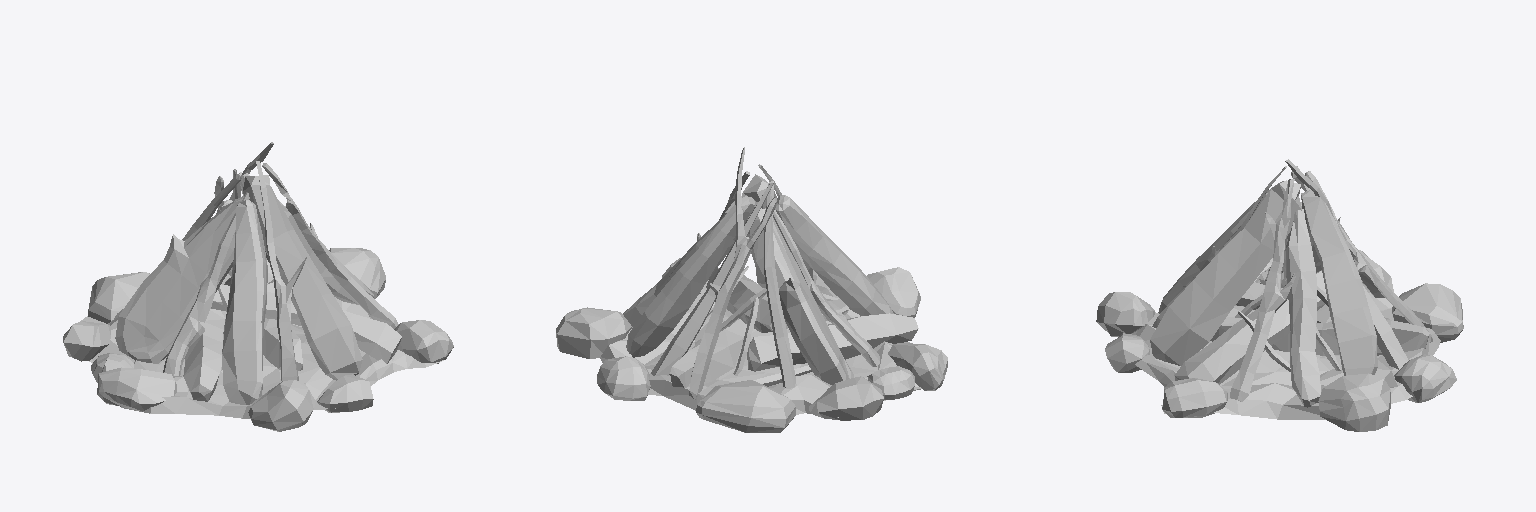
Rendered from campfireS.obj.
The picture shows the model from 3 angles: view 1: azimuth 30°, elevation 25°; view 2: azimuth 150°, elevation 25°; view 3: azimuth 270°, elevation 25°; orthographic projection.
Visible parts, largest first — view 1: campfire; view 2: campfire; view 3: campfire.
Boxes of the visible parts, x1,y1,x2,y2 form: campfire: [63, 142, 453, 431]; campfire: [556, 147, 947, 432]; campfire: [1096, 159, 1463, 431].
Size of the model in its own units: 0.9799 by 0.6011 by 0.9405.